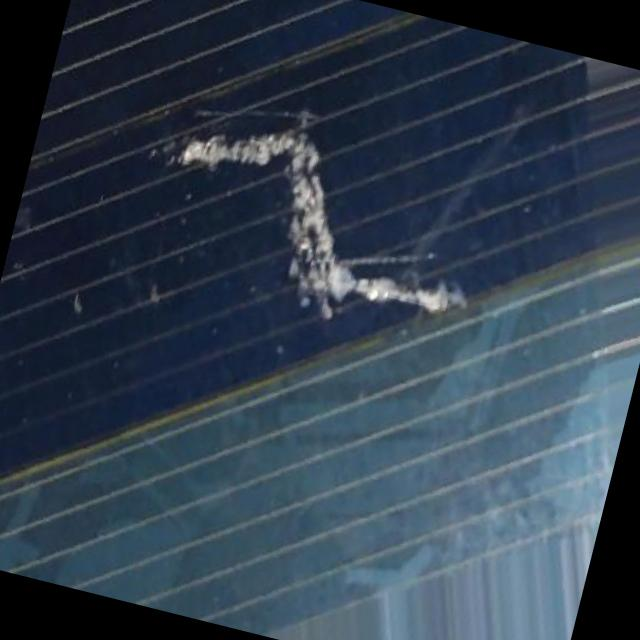faulty: (132, 100, 481, 326)
